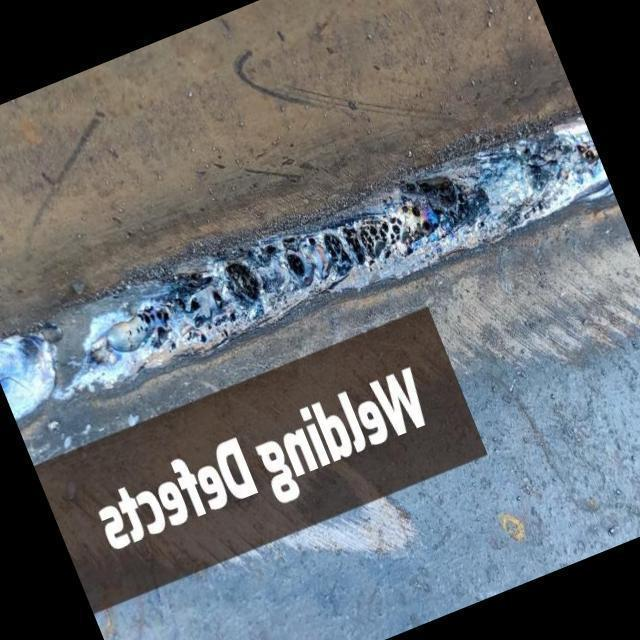defect: (323, 175, 472, 278), (122, 302, 178, 354), (221, 258, 262, 305), (281, 234, 307, 275), (520, 146, 547, 181), (184, 265, 217, 290), (574, 139, 599, 163), (172, 294, 201, 314), (210, 287, 223, 311), (529, 199, 545, 214), (266, 241, 277, 256), (305, 234, 317, 245), (221, 327, 229, 341), (185, 329, 193, 343), (228, 311, 237, 323), (206, 319, 213, 333), (200, 331, 207, 343), (477, 218, 485, 226), (248, 247, 253, 259)
